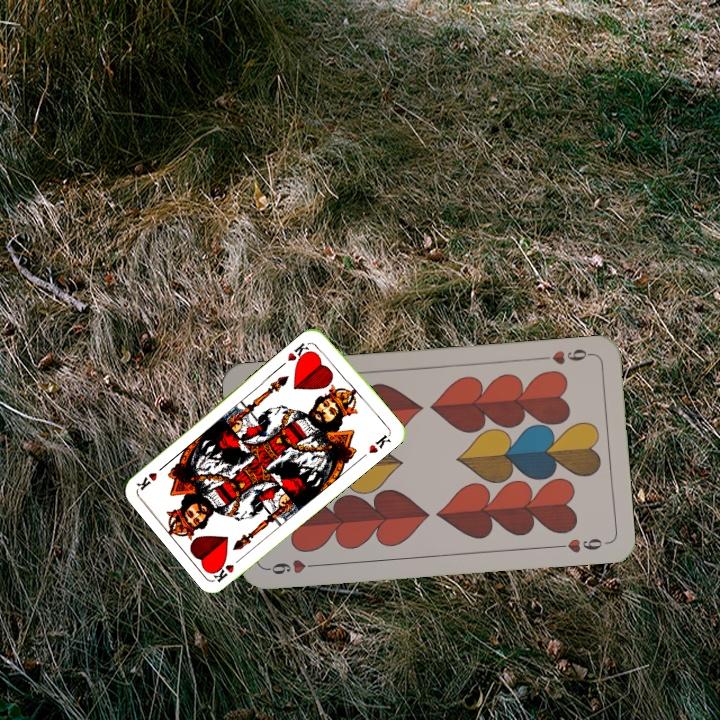H9: (536, 344, 595, 367), (261, 555, 320, 577)
HK: (208, 552, 246, 584), (283, 339, 314, 366)
